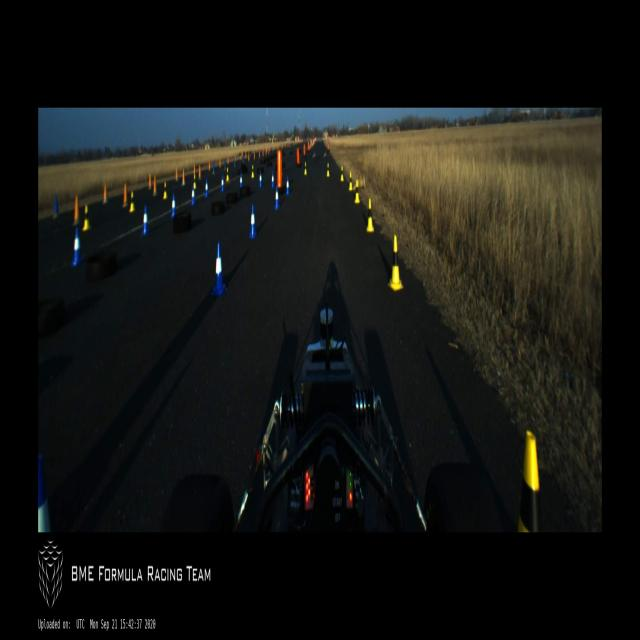blue_cone: (212, 241, 227, 297), (70, 228, 82, 268), (248, 204, 257, 238), (141, 206, 150, 236), (170, 194, 177, 218), (274, 186, 280, 211), (190, 185, 196, 206), (204, 179, 209, 198), (286, 174, 290, 195), (271, 171, 275, 189), (220, 175, 224, 192), (239, 173, 243, 189), (259, 172, 262, 188)
yellow_cone: (517, 432, 543, 532), (388, 235, 403, 291), (366, 198, 374, 232), (82, 205, 92, 231), (355, 179, 360, 203), (129, 192, 135, 212), (348, 172, 352, 192), (163, 182, 168, 198), (193, 174, 197, 189), (251, 164, 255, 179), (326, 162, 330, 176), (341, 165, 344, 181), (226, 167, 229, 181), (304, 162, 307, 174)
